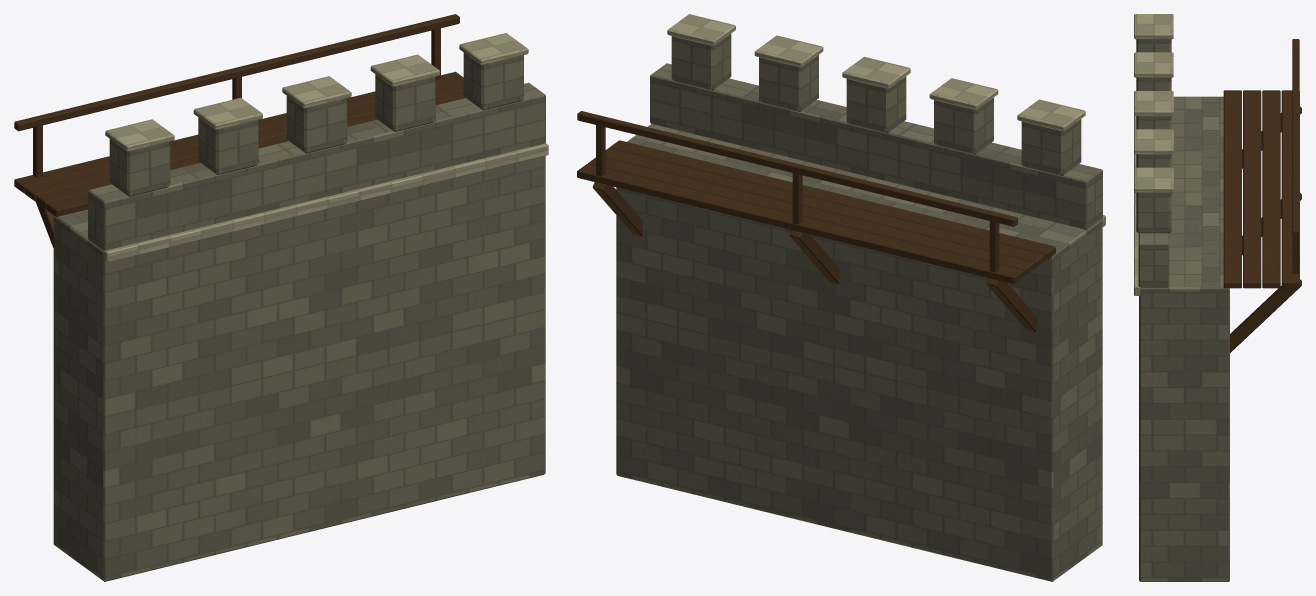
The model's file is curtain-Cfnm0QDi.glb.
The picture shows the model from 3 angles, left to right: view 1: azimuth 30°, elevation 25°; view 2: azimuth 150°, elevation 25°; view 3: azimuth 270°, elevation 25°; orthographic projection. The views are drawn at different scales.
Parts seen in each view (by area): view 1: curtain__SW_stone, curtain__SW_wood, curtain__SW_limestone; view 2: curtain__SW_stone, curtain__SW_wood, curtain__SW_limestone; view 3: curtain__SW_stone, curtain__SW_wood, curtain__SW_limestone.
Boxes of the visible parts, x1,y1,x2,y2 form: curtain__SW_stone: (53, 53, 545, 581); curtain__SW_wood: (14, 14, 465, 247); curtain__SW_limestone: (103, 33, 548, 262); curtain__SW_stone: (616, 34, 1102, 581); curtain__SW_wood: (577, 111, 1055, 332); curtain__SW_limestone: (667, 14, 1105, 226); curtain__SW_stone: (1136, 39, 1229, 581); curtain__SW_wood: (1223, 39, 1301, 352); curtain__SW_limestone: (1134, 14, 1173, 295).
Size of the model in its own units: 8 by 7.49 by 2.96.
Materials: 3 (3 with a texture image).
